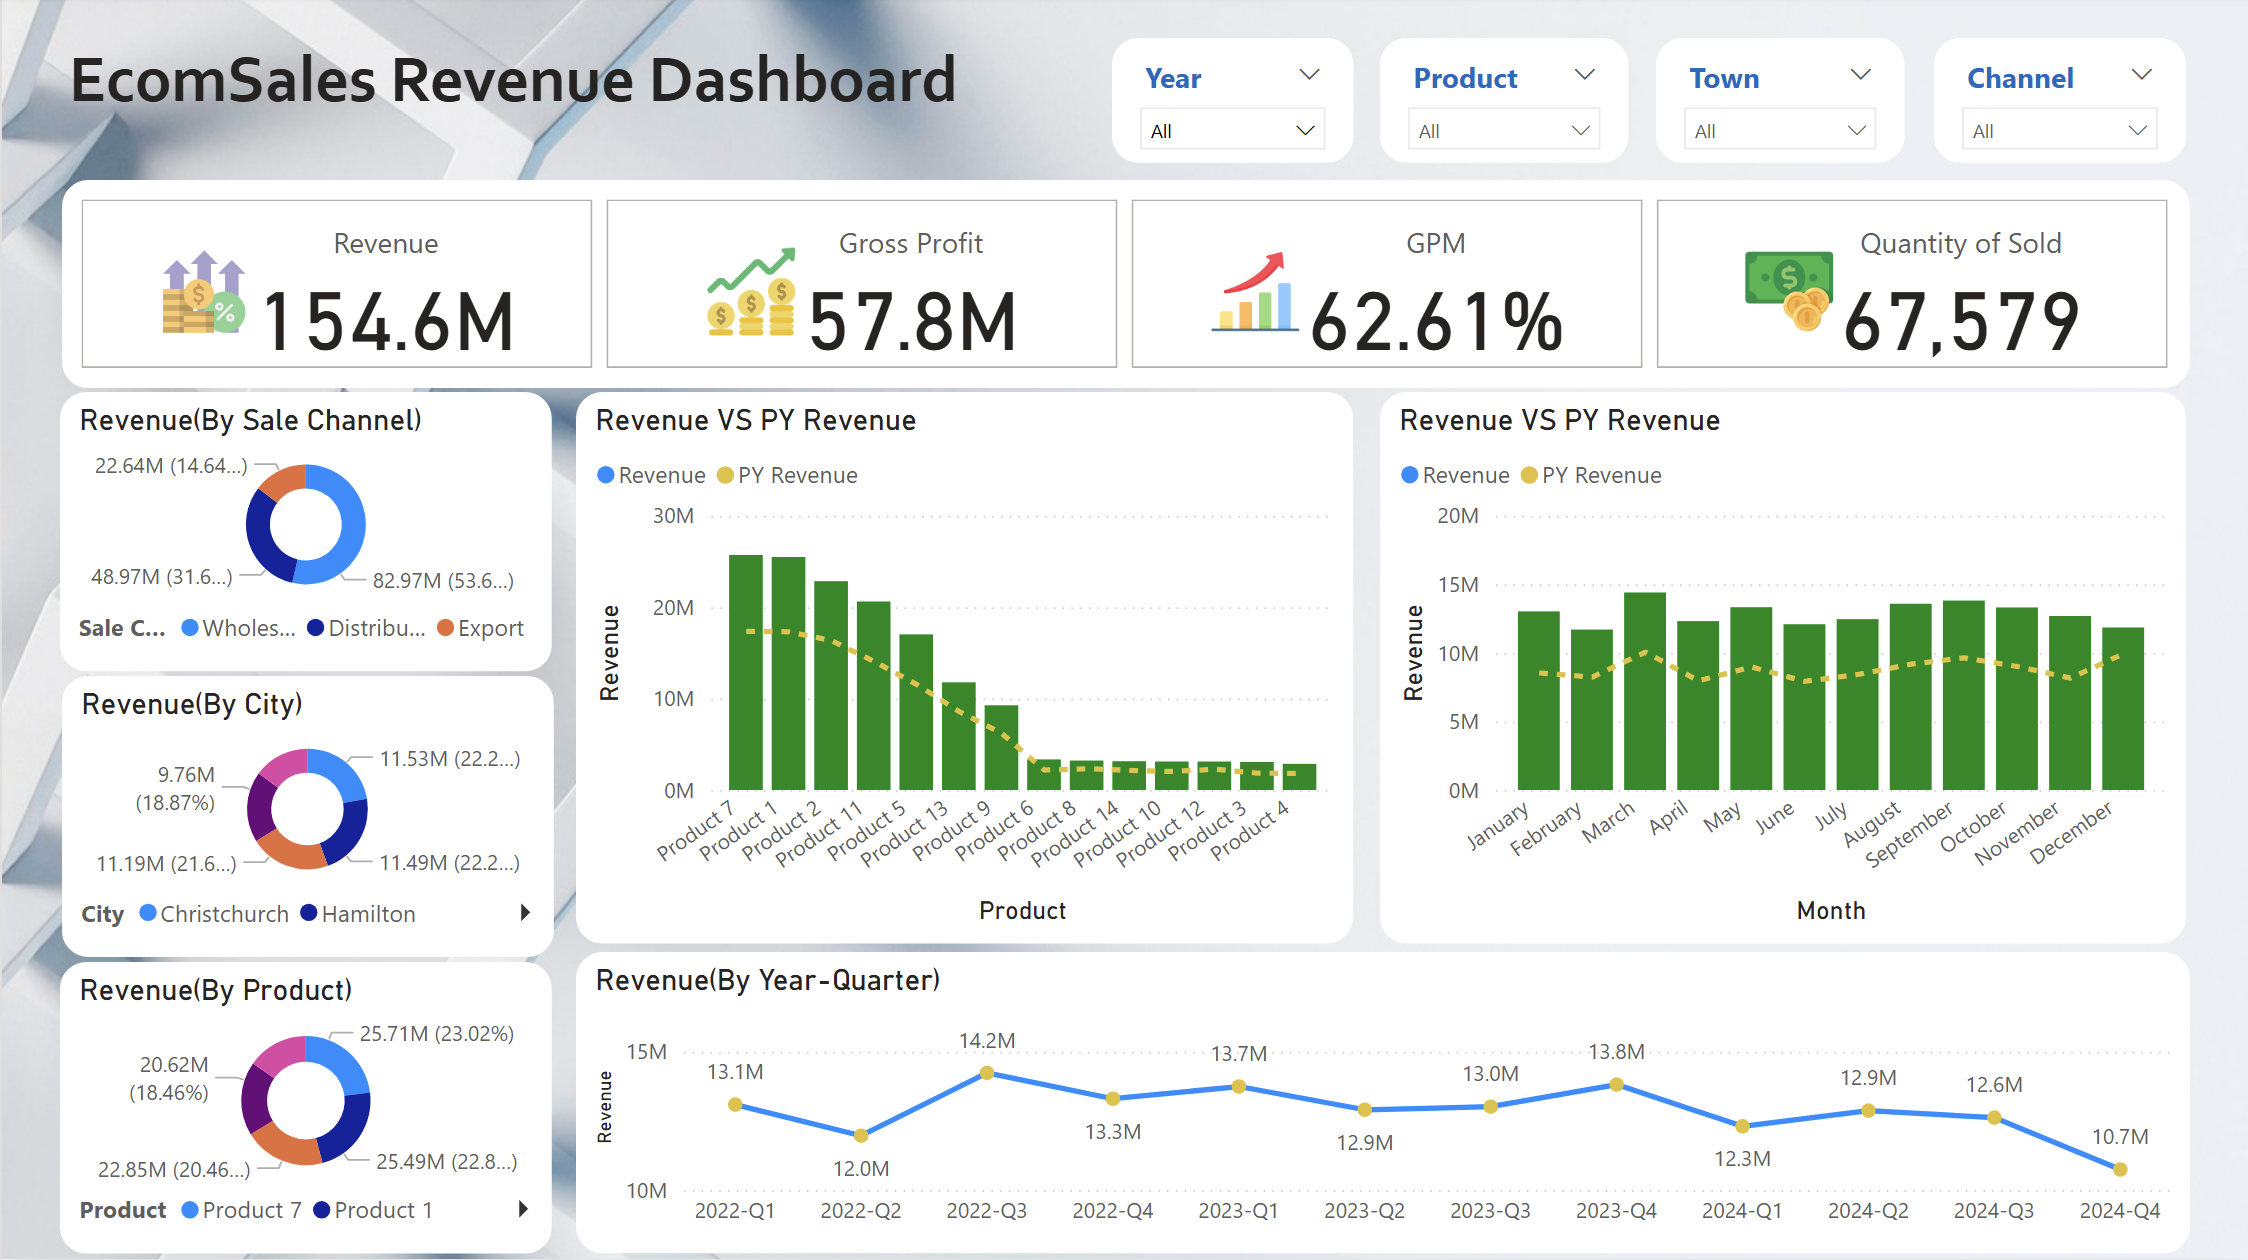

What the dashboard file says about the page in this screenshot:
{"tool":"powerbi","page":{"name":"第 1 页","canvas":[1280,720],"ordinal":0},"visuals":[{"type":"slicer","fields":{"Values":["dDate.Year"]},"box":[631.5,25,137.5,70.8],"z":0},{"type":"slicer","fields":{"Values":["Products_Data.Product"]},"box":[784.8,25,141.7,70.8],"z":1000},{"type":"slicer","fields":{"Values":["Regions_Table.Town"]},"box":[941.5,25,141.7,70.8],"z":2000},{"type":"slicer","fields":{"Values":["Sales_Data.SaleChannel"]},"box":[1099.8,25,143.3,70.8],"z":3000},{"type":"textbox","box":[33.4,20.3,592.9,80.5],"z":4000},{"type":"cardVisual","fields":{"Data":["DAX_Table.RM","DAX_Table.GM","DAX_Table.GPM","DAX_Table.QuantitySold"]},"box":[34.2,105.8,1211.7,118.3],"z":5000},{"type":"donutChart","title":"Revenue(By Sale Channel)","fields":{"Y":["DAX_Table.Revenue"],"Category":["Sales_Data.SaleChannel"]},"box":[33.3,226.7,280,159.2],"z":6000},{"type":"donutChart","title":"Revenue(By City)","fields":{"Y":["DAX_Table.Revenue"],"Category":["Regions_Table.City"]},"box":[34.2,388.3,280,160],"z":7000},{"type":"donutChart","title":"Revenue(By Product)","fields":{"Y":["DAX_Table.Revenue"],"Category":["Products_Data.Product"]},"box":[33.4,551.7,280.1,166.2],"z":8000},{"type":"lineChart","title":"Revenue(By Year-Quarter)","fields":{"Category":["dDate.Year-Quarter"],"Y":["DAX_Table.Revenue"]},"box":[326.7,545.8,919.2,171.7],"z":9000},{"type":"lineClusteredColumnComboChart","title":"Revenue VS PY Revenue","fields":{"Category":["Products_Data.Product"],"Y":["DAX_Table.Revenue"],"Y2":["DAX_Table.PY Revenue"]},"box":[326.7,226.7,442.5,314.2],"z":10000},{"type":"lineClusteredColumnComboChart","title":"Revenue VS PY Revenue","fields":{"Y":["DAX_Table.Revenue"],"Y2":["DAX_Table.PY Revenue"],"Category":["dDate.Month"]},"box":[785,226.7,459.2,314.2],"z":11000}]}

Visuals, with their boxes in screenshot pixels (x1, y1, x2, y2), scaled from the page's 1280x720 canvas onto the 2248x1260 screenshot:
slicer - dDate.Year: (x1=1109, y1=44, x2=1351, y2=168)
slicer - Products_Data.Product: (x1=1378, y1=44, x2=1627, y2=168)
slicer - Regions_Table.Town: (x1=1654, y1=44, x2=1902, y2=168)
slicer - Sales_Data.SaleChannel: (x1=1932, y1=44, x2=2183, y2=168)
textbox: (x1=59, y1=36, x2=1100, y2=176)
cardVisual - DAX_Table.RM x DAX_Table.GM: (x1=60, y1=185, x2=2188, y2=392)
"Revenue(By Sale Channel)" donutChart: (x1=58, y1=397, x2=550, y2=675)
"Revenue(By City)" donutChart: (x1=60, y1=680, x2=552, y2=960)
"Revenue(By Product)" donutChart: (x1=59, y1=965, x2=551, y2=1256)
"Revenue(By Year-Quarter)" lineChart: (x1=574, y1=955, x2=2188, y2=1256)
"Revenue VS PY Revenue" lineClusteredColumnComboChart: (x1=574, y1=397, x2=1351, y2=947)
"Revenue VS PY Revenue" lineClusteredColumnComboChart: (x1=1379, y1=397, x2=2185, y2=947)
